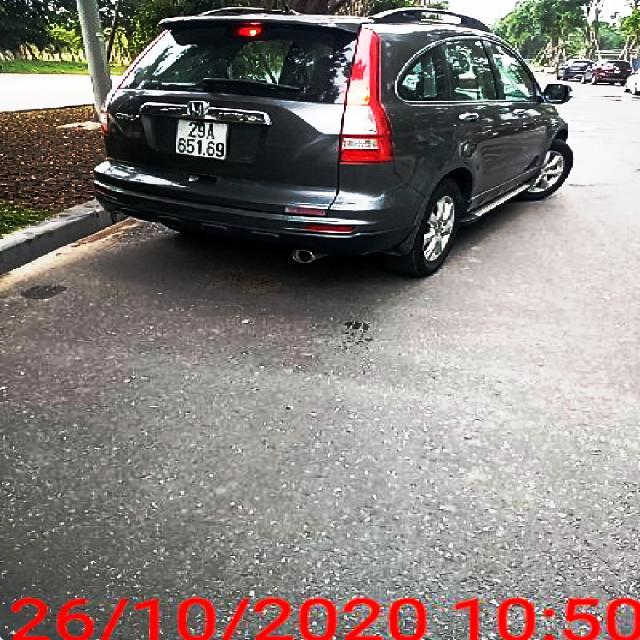license_plate: (176, 117, 229, 160)
